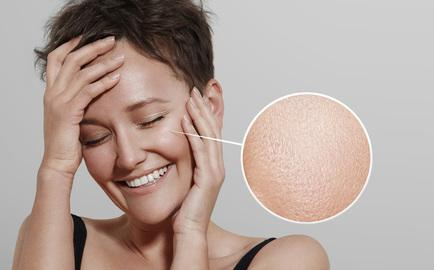Normal-Skin: (79, 88, 177, 219)
